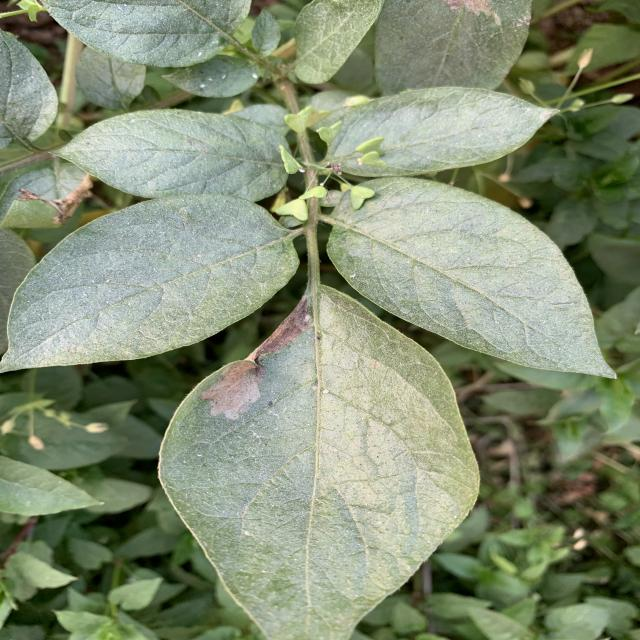lateblight: (245, 291, 312, 362), (200, 361, 265, 420)
